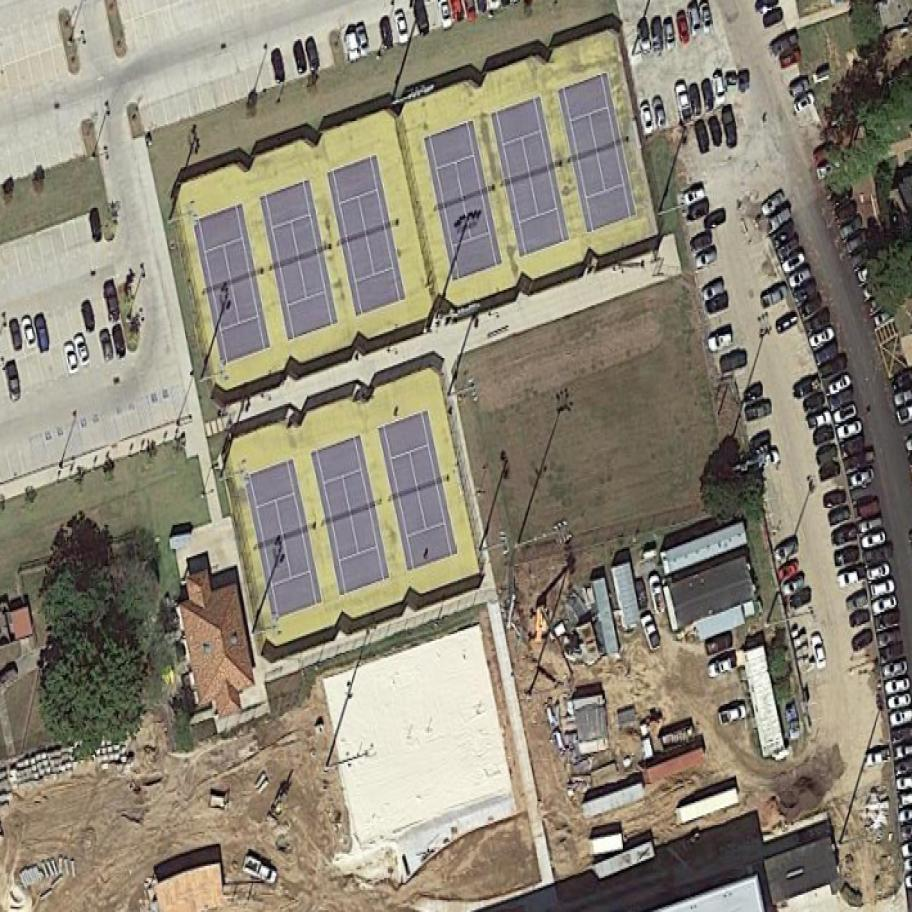small-vehicle: (240, 856, 284, 886), (671, 78, 698, 126), (755, 280, 794, 312), (766, 220, 803, 252), (814, 353, 852, 384), (832, 563, 871, 593), (638, 612, 665, 655), (842, 448, 880, 477), (770, 535, 805, 566), (767, 31, 804, 60), (700, 631, 737, 660), (714, 701, 751, 730), (757, 189, 791, 220), (763, 205, 798, 235), (717, 348, 752, 377), (834, 215, 869, 244), (787, 280, 822, 309), (810, 339, 845, 368), (704, 653, 741, 680), (830, 198, 864, 227), (839, 228, 873, 257), (801, 309, 835, 338), (823, 370, 857, 399), (782, 586, 817, 614), (861, 542, 897, 569), (777, 249, 810, 278), (847, 627, 880, 656), (794, 293, 827, 322), (784, 263, 818, 291), (802, 407, 836, 435), (845, 465, 879, 493), (102, 281, 124, 324), (805, 324, 840, 351), (719, 107, 742, 148), (789, 89, 821, 118), (702, 291, 735, 319), (774, 557, 807, 585), (647, 571, 668, 615), (5, 358, 25, 404), (827, 522, 861, 549), (791, 375, 825, 402), (832, 544, 865, 571), (809, 423, 842, 450), (778, 574, 812, 600), (813, 159, 848, 184), (774, 237, 806, 264), (842, 588, 874, 615), (826, 387, 858, 414), (859, 276, 890, 303), (691, 119, 713, 157), (799, 390, 831, 416), (835, 416, 867, 442), (837, 434, 869, 460), (853, 513, 887, 537), (866, 576, 900, 600), (685, 230, 716, 256), (690, 247, 721, 273), (699, 278, 731, 303), (743, 399, 775, 424), (830, 401, 862, 426), (341, 27, 363, 63), (353, 22, 375, 58), (854, 259, 883, 286), (777, 46, 807, 72), (686, 199, 716, 225), (773, 310, 803, 336), (634, 19, 654, 58), (813, 443, 843, 469), (816, 460, 846, 486), (33, 314, 52, 355), (650, 97, 671, 133), (72, 332, 93, 368), (739, 380, 768, 406), (754, 445, 784, 470), (706, 329, 737, 353), (864, 559, 895, 583), (870, 593, 901, 617), (872, 610, 903, 634), (852, 498, 883, 522), (675, 9, 694, 48), (110, 324, 130, 361), (847, 244, 876, 269), (698, 0, 717, 38), (680, 186, 710, 210), (701, 208, 731, 232), (97, 327, 117, 363), (61, 341, 81, 377), (878, 641, 908, 665), (270, 48, 289, 85), (877, 627, 907, 650), (638, 102, 657, 138), (291, 39, 310, 75), (304, 36, 323, 72), (88, 206, 106, 244), (759, 7, 787, 31), (747, 428, 775, 452), (687, 2, 705, 39), (881, 660, 911, 682), (863, 747, 893, 769), (859, 530, 890, 551), (786, 77, 813, 101), (871, 307, 898, 331), (20, 315, 39, 349), (827, 505, 854, 528), (7, 319, 25, 353), (707, 116, 726, 148), (79, 302, 98, 334), (688, 84, 705, 119), (847, 609, 874, 631), (394, 10, 411, 44), (379, 17, 396, 49), (701, 78, 716, 114), (651, 17, 664, 57), (663, 19, 678, 53), (713, 73, 727, 109), (822, 488, 847, 508), (886, 692, 912, 711)
